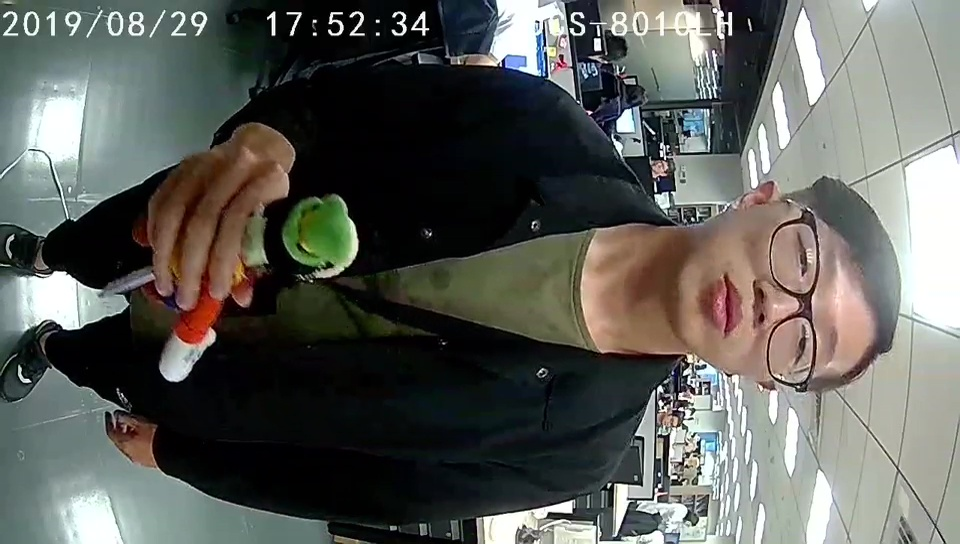goofy: (129, 195, 360, 383)
